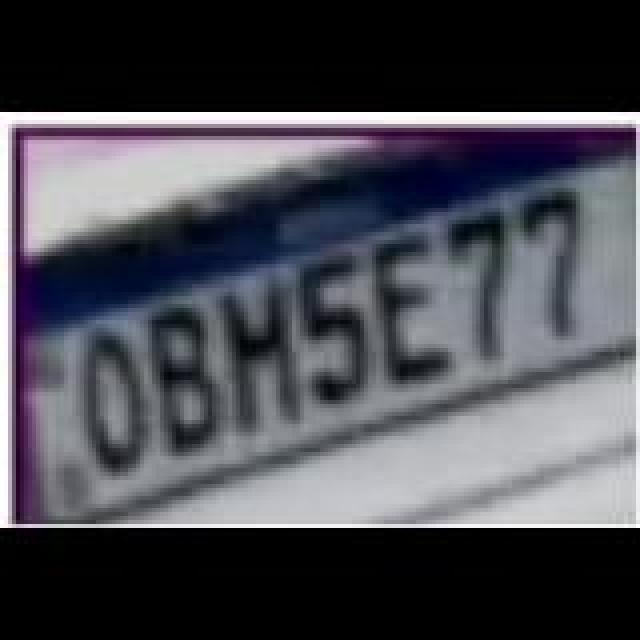5: (300, 260, 372, 412)
7: (446, 214, 514, 362), (522, 190, 590, 338)
B: (146, 308, 222, 460)
E: (368, 236, 448, 388)
M: (222, 284, 306, 436)
O: (78, 330, 154, 478)
